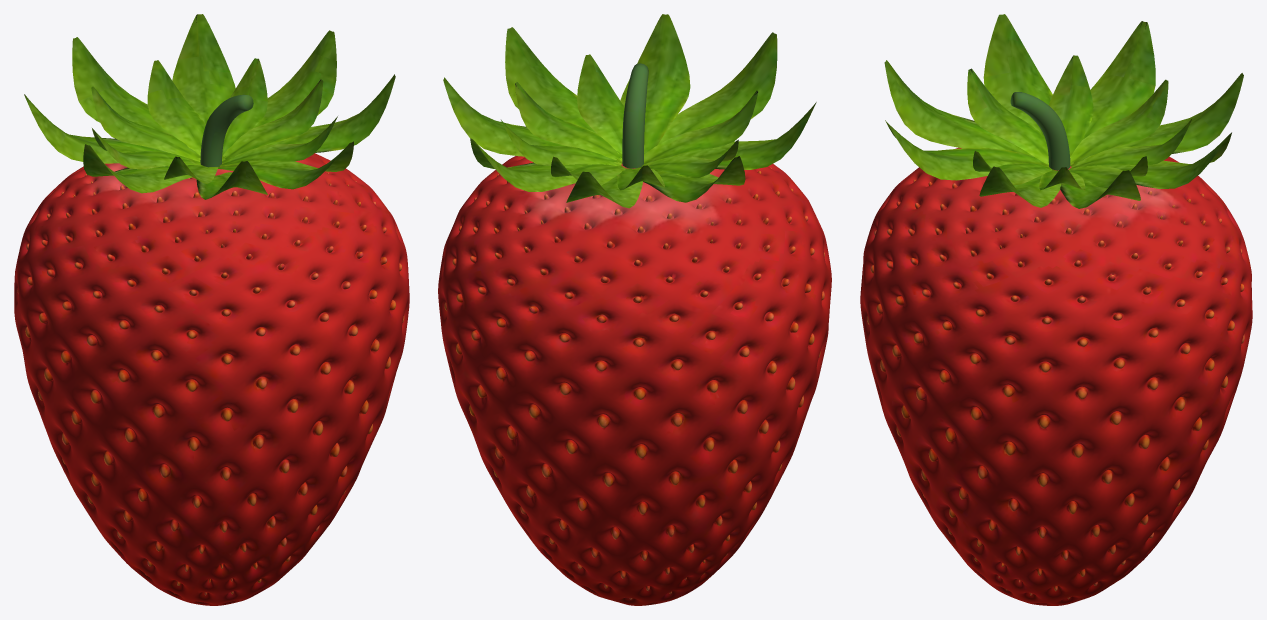
The model's file is strawberry.glb.
The picture shows the model from 3 angles, left to right: view 1: azimuth 30°, elevation 25°; view 2: azimuth 150°, elevation 25°; view 3: azimuth 270°, elevation 25°; orthographic projection.
Parts seen in each view (by area): view 1: strawberry_Strawberry_0; view 2: strawberry_Strawberry_0; view 3: strawberry_Strawberry_0.
Part boxes in pixels (left/top/right/bottom): strawberry_Strawberry_0: left=14, top=14, right=409, bottom=605; strawberry_Strawberry_0: left=438, top=14, right=831, bottom=605; strawberry_Strawberry_0: left=860, top=14, right=1252, bottom=605.
Size of the model in its own units: 4.9 by 7.08 by 4.9.
1 material, 1 textured.
